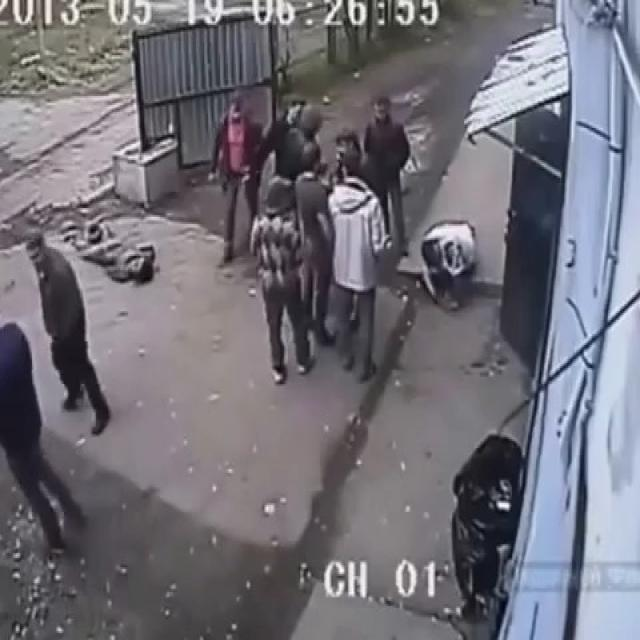fight: (304, 127, 366, 342), (417, 213, 482, 317), (267, 96, 325, 193)
